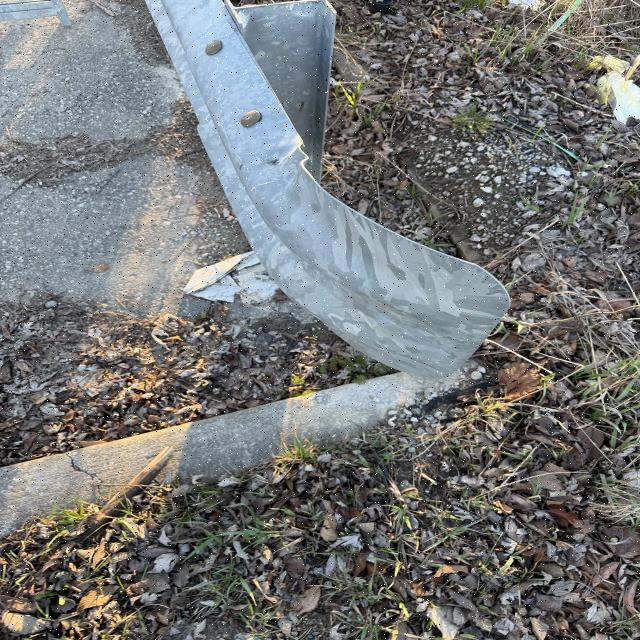Guard rail: (139, 8, 489, 346)
